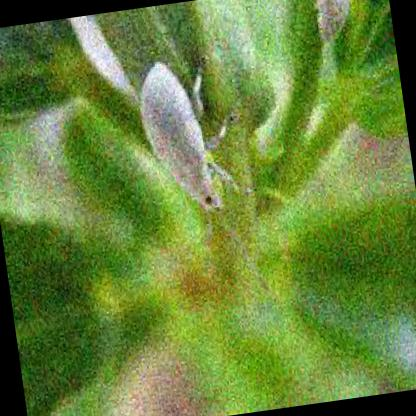ash weevil: (141, 63, 233, 212)
